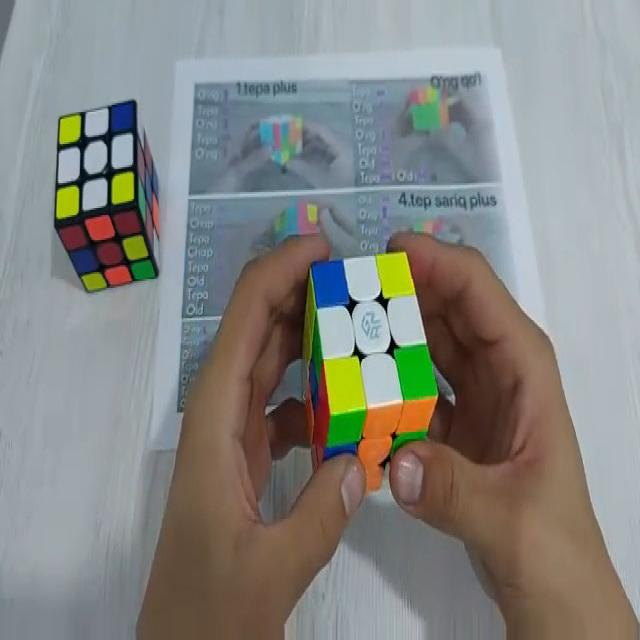Rub: (302, 251, 437, 488), (56, 97, 162, 293)
